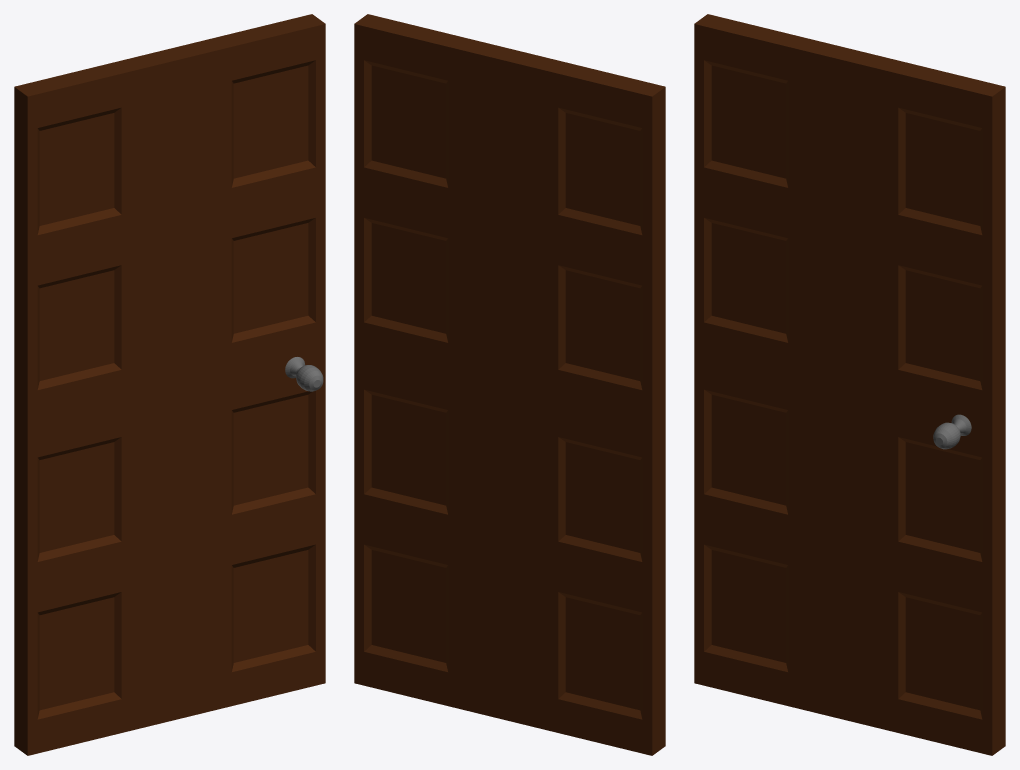
File: CPI441_Fur_Door1_V2_O4.fbx
The picture shows the model from 3 angles, left to right: view 1: azimuth 30°, elevation 25°; view 2: azimuth 150°, elevation 25°; view 3: azimuth 330°, elevation 25°; orthographic projection.
Visible parts, largest first — view 1: Cube, Circle; view 2: Cube; view 3: Cube, Circle.
Boxes of the visible parts, <box> form: Cube: <box>14,14,325,755</box>; Circle: <box>285,357,323,391</box>; Cube: <box>354,14,665,755</box>; Cube: <box>694,14,1005,755</box>; Circle: <box>933,414,971,449</box>.
Size of the model in its own units: 472 by 997 by 97.84.
